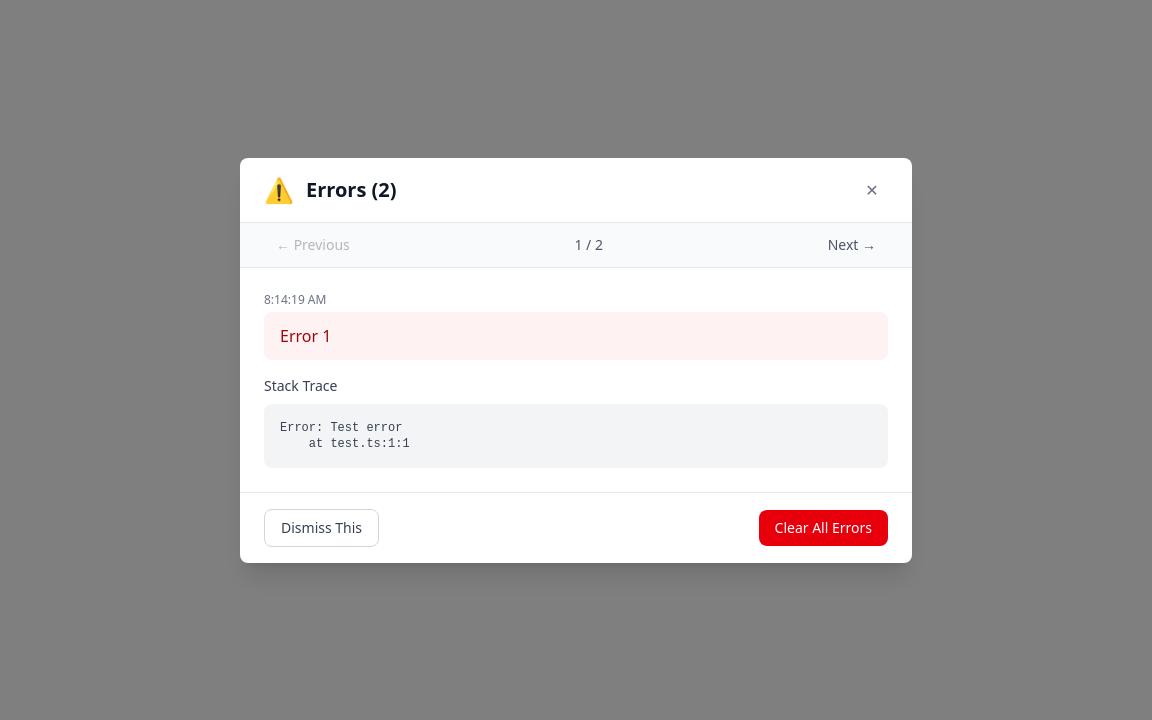
it: ErrorView › navigation › should navigate to next error
expect the text "Error 1" is shown: met, box [280, 324, 331, 346]
What coordinates should you click on to do the following:
click the button "Next →"
I would click on:
 (852, 244)
Its box is [816, 230, 888, 258].
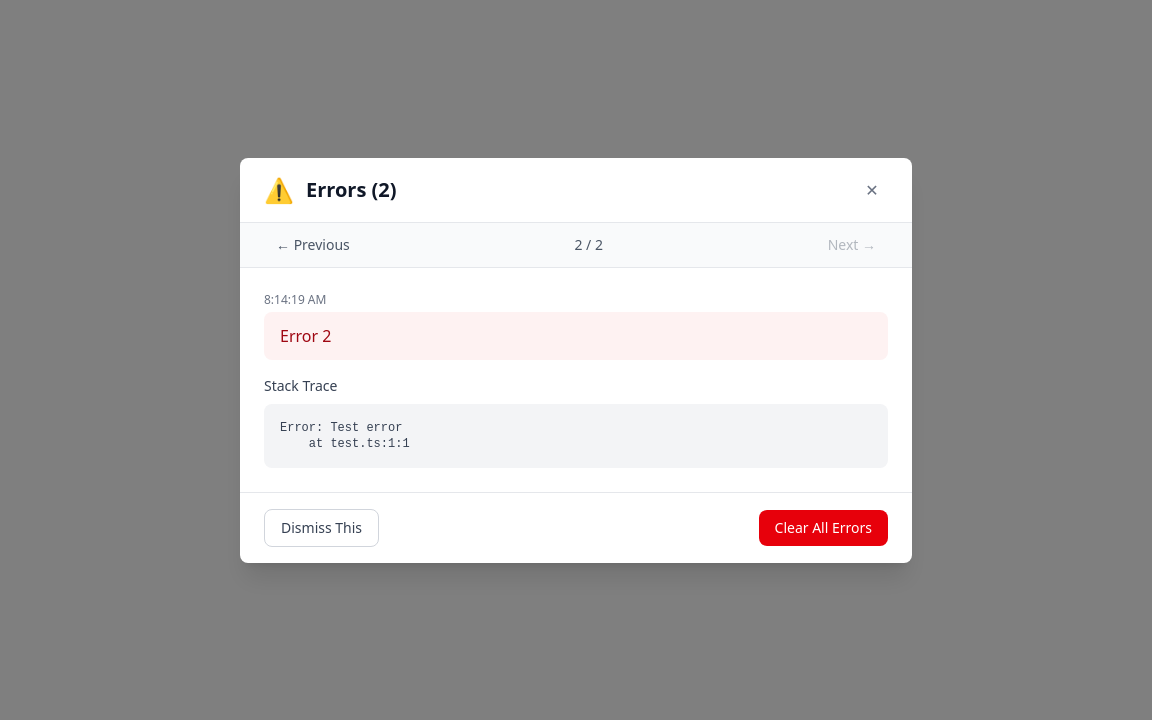
expect the text "Error 2" is shown: met, box [280, 324, 331, 346]
expect the text "2 / 2" is shown: met, box [574, 234, 603, 254]
